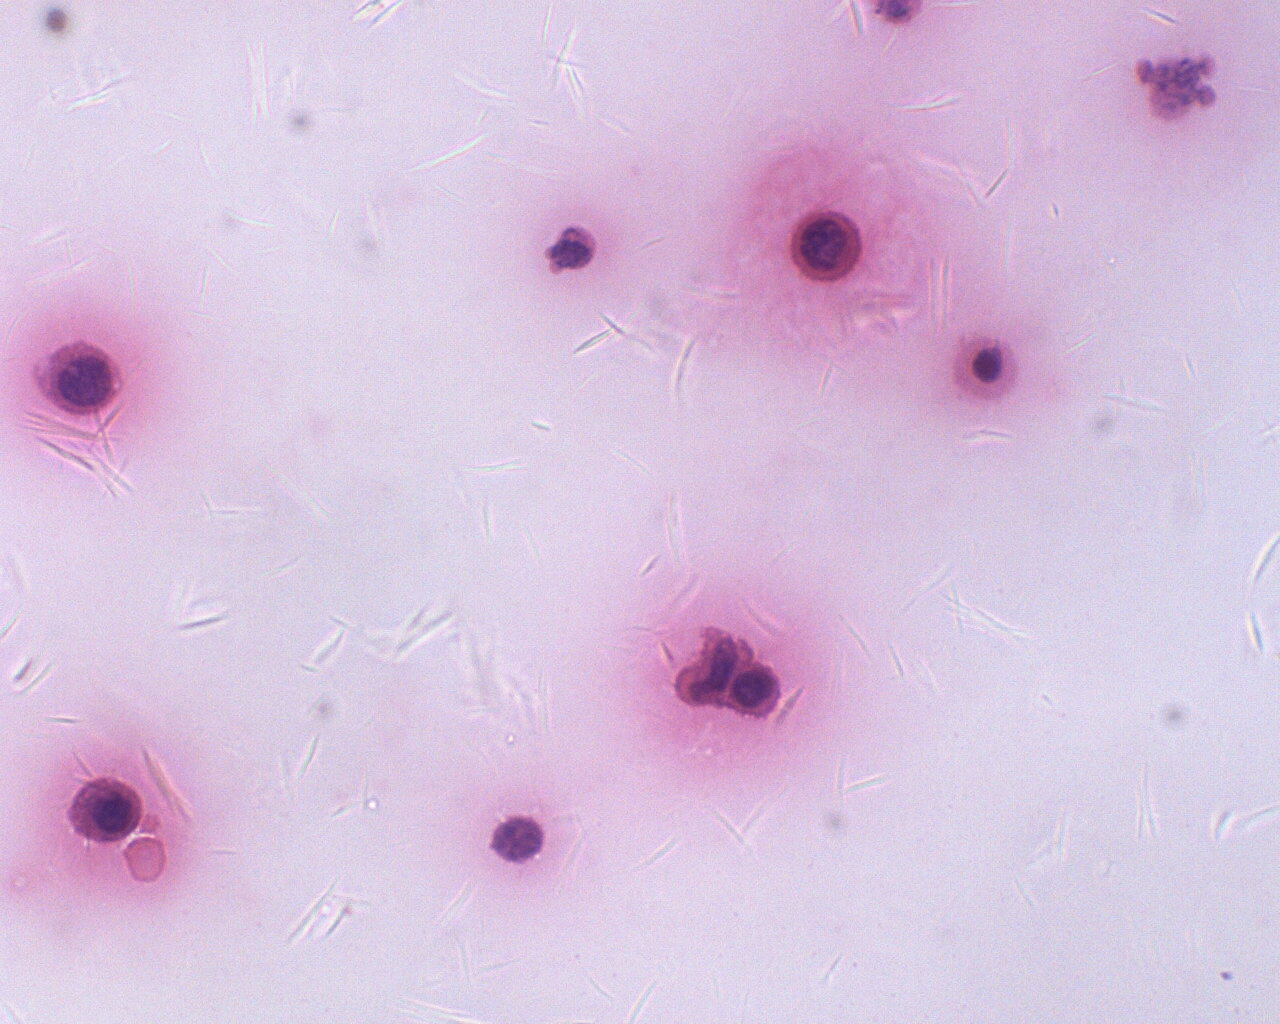meso: (32, 336, 121, 420), (784, 205, 867, 282), (945, 331, 1027, 405), (65, 776, 150, 847)
